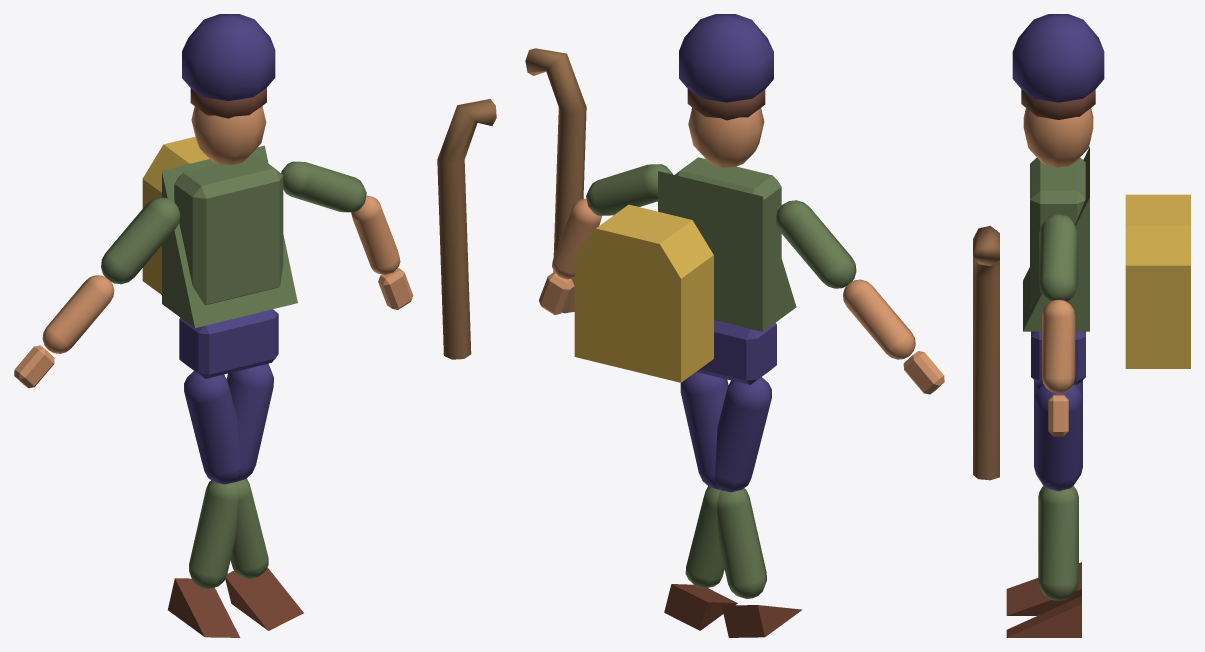
Rendered from adventurer.rustic.glb.
The picture shows the model from 3 angles, left to right: view 1: azimuth 30°, elevation 25°; view 2: azimuth 150°, elevation 25°; view 3: azimuth 270°, elevation 25°; orthographic projection.
Visible parts, largest first — view 1: torso, accessory.main-hand, accessory.head, tunic, pelvis, thigh.left, shin.right, upper-arm.left, thigh.right, head, upper-arm.right, forearm.left (+8 smaller); view 2: accessory.back, tunic, accessory.head, accessory.main-hand, thigh.left, shin.right, upper-arm.left, pelvis, thigh.right, head, forearm.left, upper-arm.right (+8 smaller); view 3: accessory.back, accessory.main-hand, accessory.head, shin.left, thigh.right, torso, upper-arm.right, head, forearm.right, tunic, foot.left, foot.right (+3 smaller).
Boxes of the visible parts, left/top/right/bottom form: torso: left=174, top=155, right=283, bottom=304; accessory.main-hand: left=437, top=99, right=496, bottom=359; accessory.head: left=182, top=14, right=275, bottom=100; tunic: left=162, top=145, right=297, bottom=327; pelvis: left=179, top=309, right=278, bottom=378; thigh.left: left=184, top=371, right=239, bottom=484; shin.right: left=189, top=480, right=237, bottom=589; upper-arm.left: left=101, top=197, right=180, bottom=284; thigh.right: left=226, top=364, right=273, bottom=481; head: left=191, top=106, right=266, bottom=164; upper-arm.right: left=281, top=161, right=366, bottom=212; forearm.left: left=42, top=275, right=114, bottom=353; accessory.back: left=574, top=204, right=713, bottom=382; tunic: left=658, top=171, right=796, bottom=331; accessory.head: left=679, top=14, right=773, bottom=102; accessory.main-hand: left=525, top=48, right=586, bottom=313; thigh.left: left=715, top=377, right=771, bottom=492; shin.right: left=717, top=488, right=766, bottom=598; upper-arm.left: left=775, top=200, right=856, bottom=288; pelvis: left=696, top=320, right=776, bottom=384; thigh.right: left=680, top=372, right=728, bottom=489; head: left=688, top=107, right=764, bottom=167; forearm.left: left=843, top=279, right=915, bottom=359; upper-arm.right: left=586, top=164, right=672, bottom=215; accessory.back: left=1125, top=194, right=1190, bottom=368; accessory.main-hand: left=973, top=226, right=999, bottom=480; accessory.head: left=1012, top=14, right=1104, bottom=102; shin.left: left=1038, top=486, right=1078, bottom=600; thigh.right: left=1034, top=384, right=1082, bottom=491; torso: left=1030, top=157, right=1085, bottom=307; upper-arm.right: left=1039, top=214, right=1077, bottom=301; head: left=1023, top=108, right=1093, bottom=167; forearm.right: left=1042, top=300, right=1075, bottom=393; tunic: left=1023, top=147, right=1089, bottom=331; foot.left: left=1006, top=596, right=1081, bottom=637; foot.right: left=1006, top=562, right=1081, bottom=615.
Bounding box in the file's own units: 2.52 × 3.28 × 1.07.
